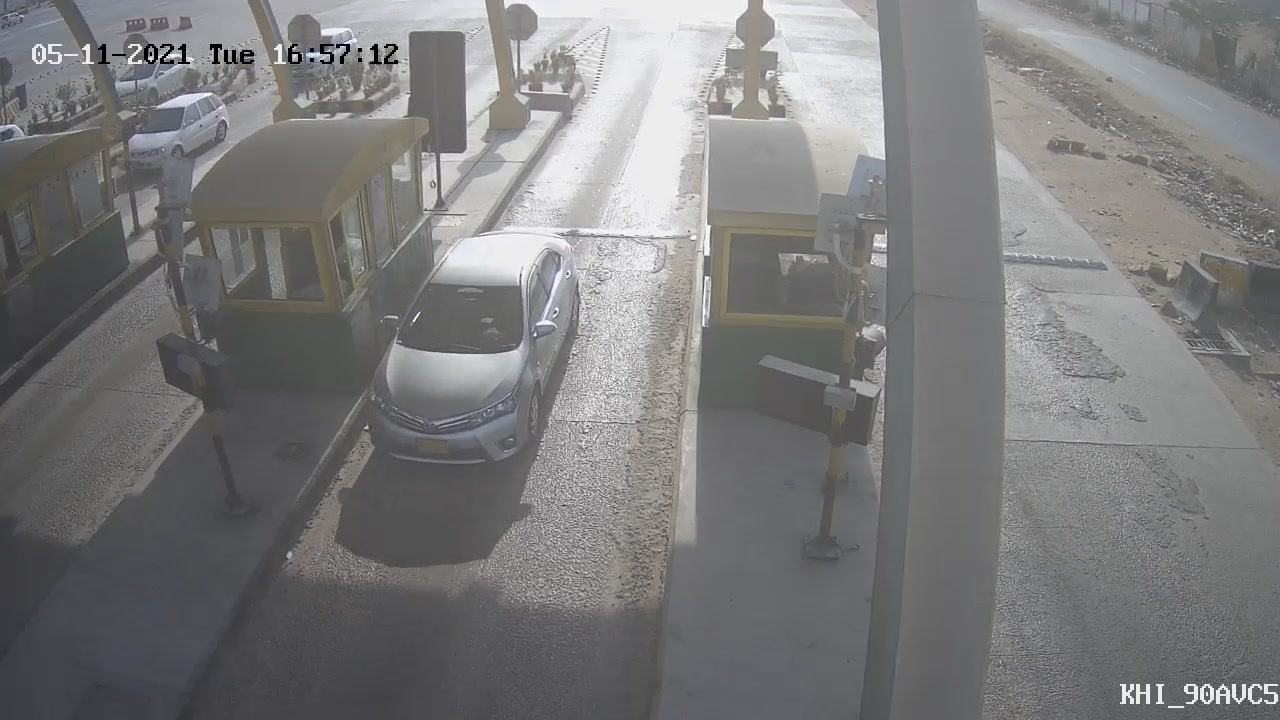F1: (344, 211, 608, 495)
